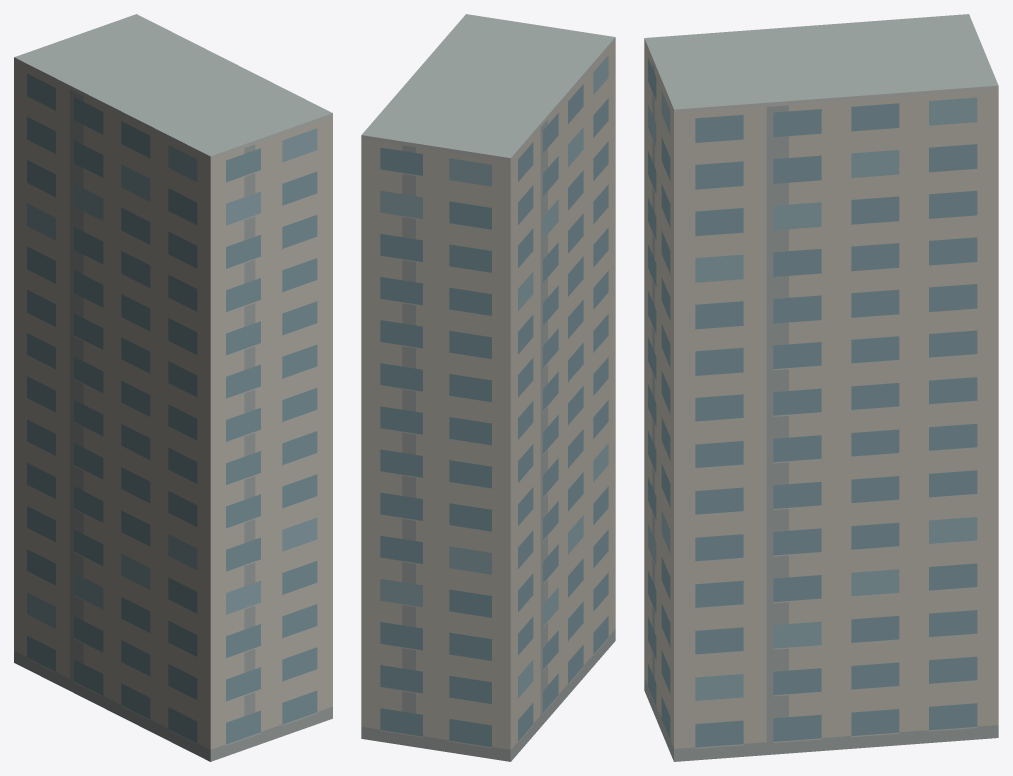
The model's file is residential-8c0f1c87-3aa2-4693-8c56-357933124b76.glb.
3 views of the same model, side by side, from view 1: azimuth 30°, elevation 25°; view 2: azimuth 150°, elevation 25°; view 3: azimuth 270°, elevation 25° (orthographic). The views are drawn at different scales.
Parts seen in each view (by area): view 1: residential-8c0f1c87-3aa2-4693-8c56-357933124b76.tmp; view 2: residential-8c0f1c87-3aa2-4693-8c56-357933124b76.tmp; view 3: residential-8c0f1c87-3aa2-4693-8c56-357933124b76.tmp.
Part boxes in pixels (<box>): residential-8c0f1c87-3aa2-4693-8c56-357933124b76.tmp: <box>14,14,332,761</box>; residential-8c0f1c87-3aa2-4693-8c56-357933124b76.tmp: <box>361,14,615,761</box>; residential-8c0f1c87-3aa2-4693-8c56-357933124b76.tmp: <box>644,14,998,761</box>.
Size of the model in its own units: 11.95 by 38 by 18.71.
